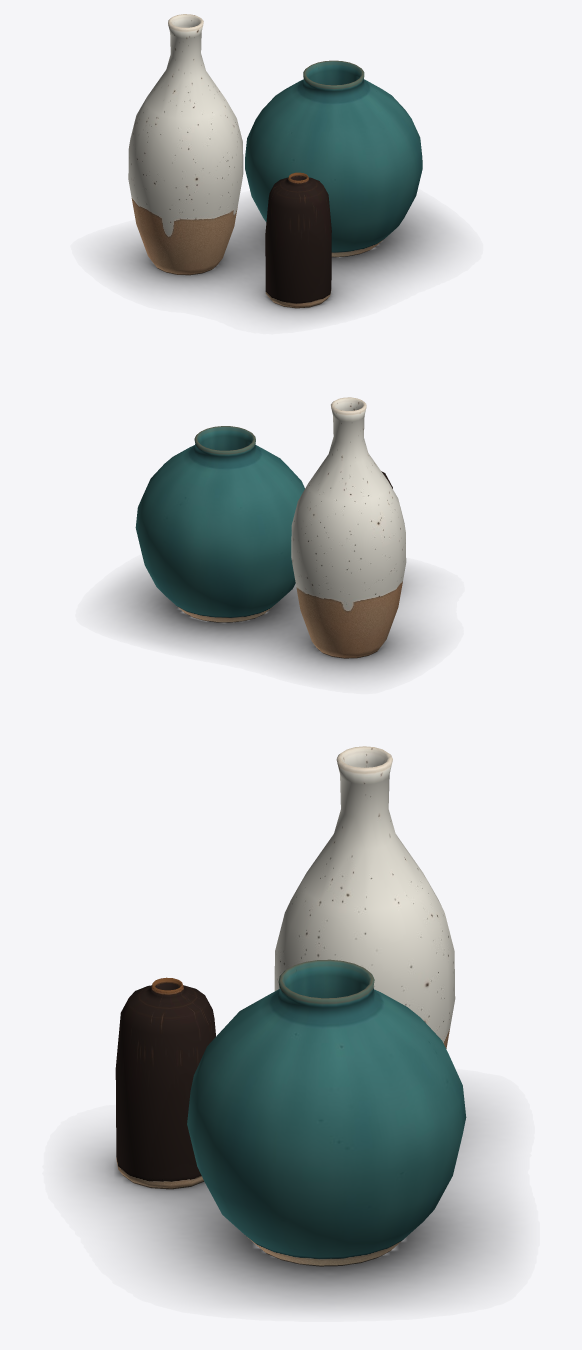
The model's file is vases.glb.
The picture shows the model from 3 angles, top to bottom: view 1: azimuth 30°, elevation 25°; view 2: azimuth 150°, elevation 25°; view 3: azimuth 270°, elevation 25°; orthographic projection. The views are drawn at different scales.
Parts seen in each view (by area): view 1: vases_LOD0, vases_Shadow; view 2: vases_LOD0, vases_Shadow; view 3: vases_LOD0, vases_Shadow.
Boxes of the visible parts, x1=… form: vases_LOD0: x1=128, y1=14, x2=422, y2=308; vases_Shadow: x1=104, y1=201, x2=450, y2=319; vases_LOD0: x1=135, y1=397, x2=406, y2=658; vases_Shadow: x1=108, y1=567, x2=429, y2=677; vases_LOD0: x1=115, y1=746, x2=466, y2=1266; vases_Shadow: x1=76, y1=1098, x2=507, y2=1308.
Size of what is drawn, in the model's own units: 0.5326 by 0.3255 by 0.4356.
Materials: 2 (2 with a texture image).
